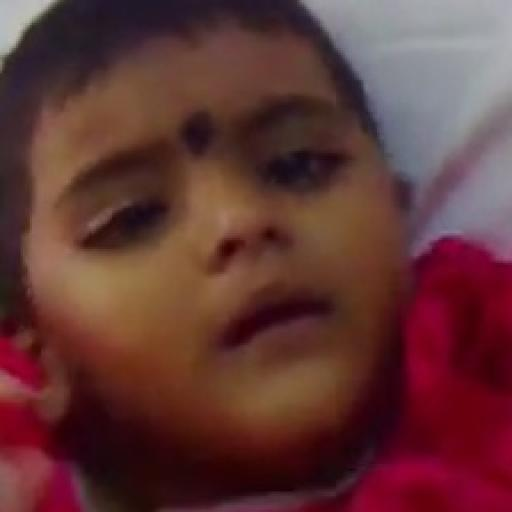Autism: (6, 19, 431, 469)
